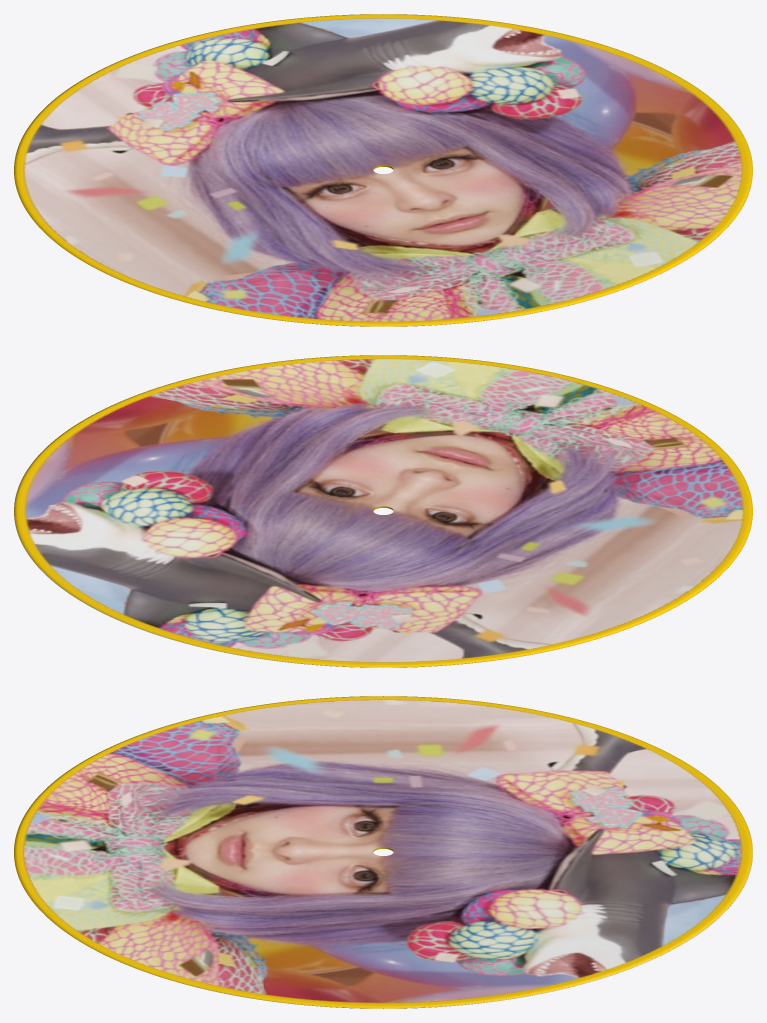
Rendered from vinyl_10.dae.
3 views of the same model, one above another, from view 1: azimuth 30°, elevation 25°; view 2: azimuth 150°, elevation 25°; view 3: azimuth 270°, elevation 25° (orthographic).
Parts seen in each view (by area): view 1: _10_VINYL_Normal_edge_thick_焼成後確認用; view 2: _10_VINYL_Normal_edge_thick_焼成後確認用; view 3: _10_VINYL_Normal_edge_thick_焼成後確認用.
Boxes of the visible parts, x1,y1,x2,y2 form: _10_VINYL_Normal_edge_thick_焼成後確認用: [14, 14, 752, 326]; _10_VINYL_Normal_edge_thick_焼成後確認用: [14, 355, 752, 667]; _10_VINYL_Normal_edge_thick_焼成後確認用: [14, 696, 752, 1008].
Size of the model in its own units: 25 by 0.085 by 25.
1 material, 1 textured.
